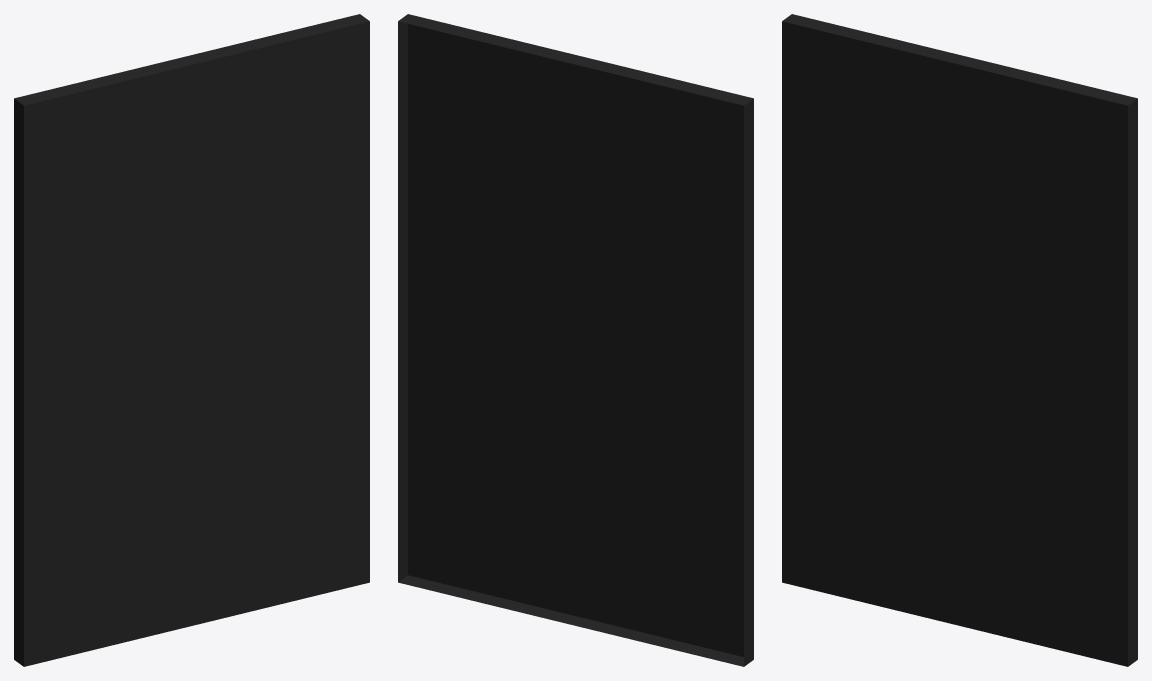
The model's file is Wall_Basic.fbx.
3 views of the same model, side by side, from view 1: azimuth 30°, elevation 25°; view 2: azimuth 150°, elevation 25°; view 3: azimuth 330°, elevation 25° (orthographic).
Parts seen in each view (by area): view 1: WallOUT; view 2: WallOUT; view 3: WallOUT.
Boxes of the visible parts, box(x1,y1,x2,y2) form: WallOUT: box(14, 14, 369, 666); WallOUT: box(398, 14, 753, 666); WallOUT: box(782, 14, 1137, 666).
Bounding box in the file's own units: 200 × 310 × 10.
